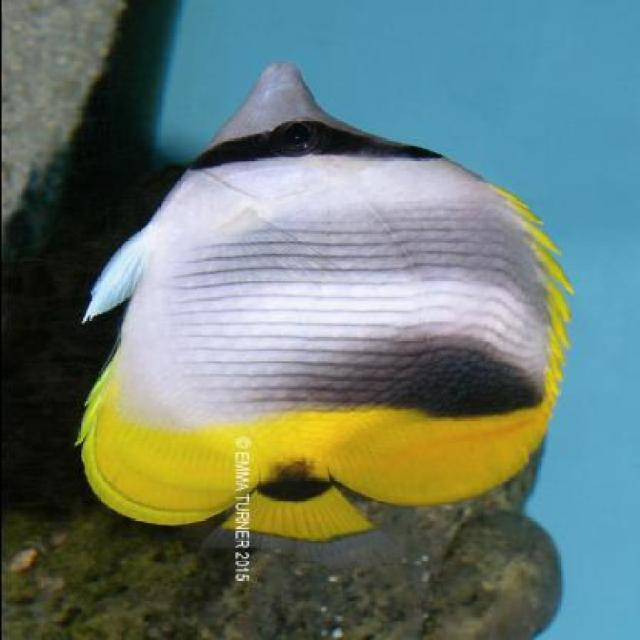ButterflyFish: (76, 54, 574, 536)
